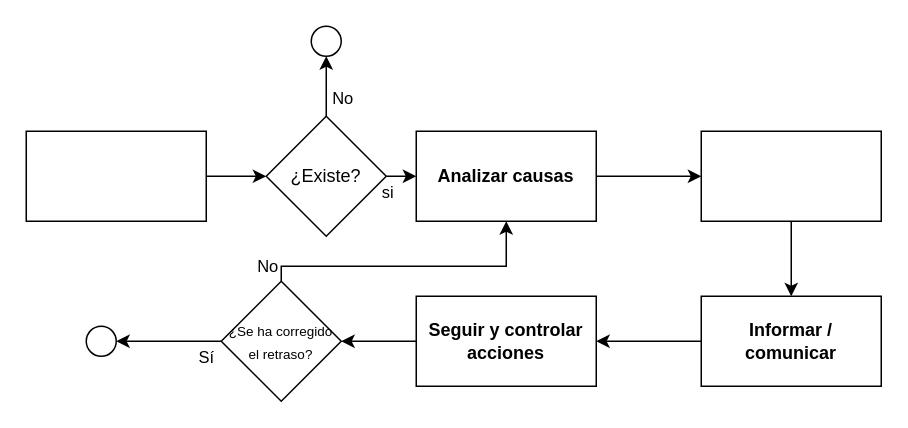
Image size: 908x428. Some labels were removed from this diagram. The centre of each missing label's shape, as x and y in pixels:
"Definir acciones correctivas" goes at (x=790, y=175).
"Evaluar impacto" goes at (x=115, y=175).
